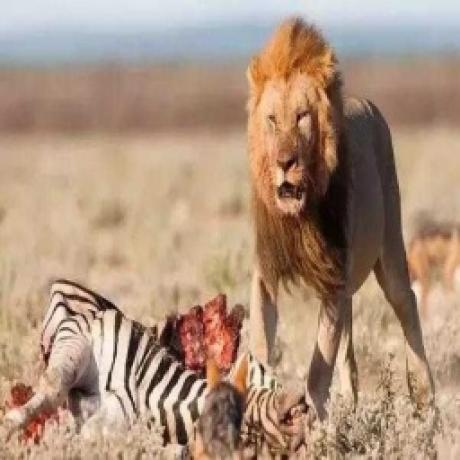Lion: (244, 12, 432, 407)
